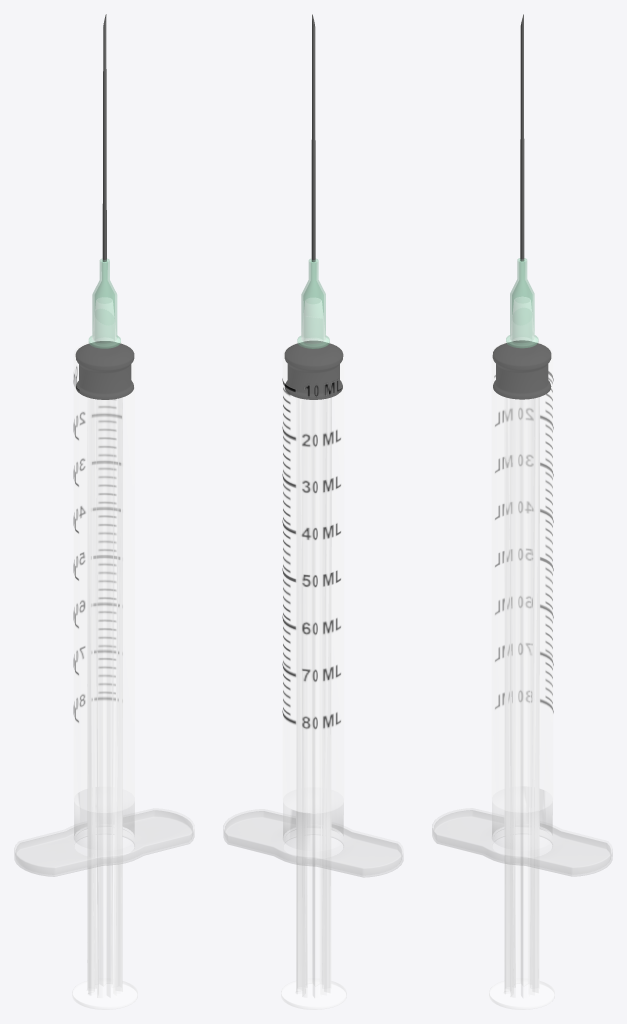
The model's file is syringe.glb.
3 renders of one model, left to right at view 1: azimuth 30°, elevation 25°; view 2: azimuth 150°, elevation 25°; view 3: azimuth 330°, elevation 25°, orthographic.
Visible parts, largest first — view 1: Cylindrical barrel.002, Plunger, Cylindrical barrel.001, Tip; view 2: Cylindrical barrel.002, Plunger, Cylindrical barrel.001, Tip; view 3: Cylindrical barrel.002, Plunger, Cylindrical barrel.001, Tip.
Part boxes in pixels (x1,y1,x2,y2): Cylindrical barrel.002: (73, 297, 134, 812); Plunger: (72, 341, 137, 1009); Cylindrical barrel.001: (14, 790, 194, 876); Tip: (89, 14, 120, 348); Cylindrical barrel.002: (282, 298, 344, 813); Plunger: (281, 341, 346, 1009); Cylindrical barrel.001: (223, 790, 403, 877); Tip: (297, 14, 329, 348); Cylindrical barrel.002: (491, 297, 553, 812); Plunger: (489, 340, 554, 1009); Cylindrical barrel.001: (432, 789, 612, 876); Tip: (506, 14, 538, 347).
Bounding box in the file's own units: 5.3 × 29.4 × 2.37.
Materials: 6 (1 with a texture image).
